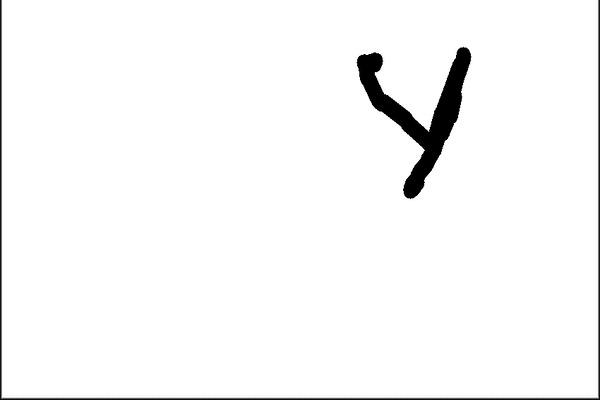Y: (337, 33, 481, 200)
